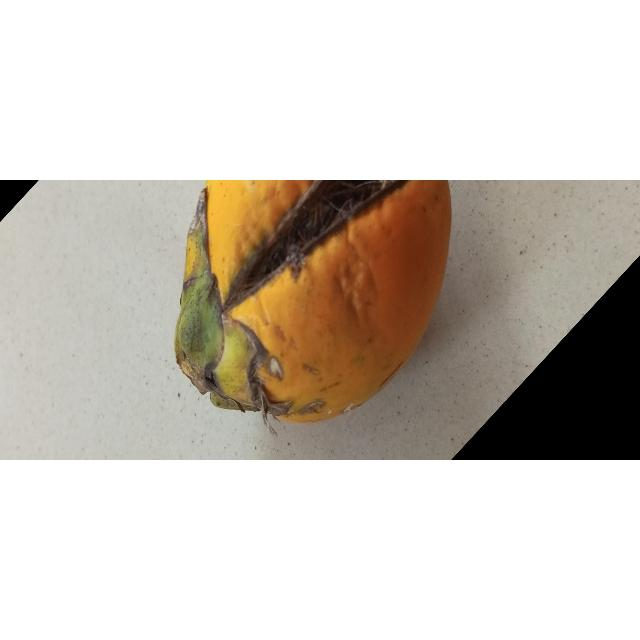damaged: (174, 180, 451, 423)
